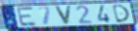2: (75, 5, 94, 25)
4: (97, 4, 112, 24)
7: (37, 6, 53, 26)
D: (112, 4, 131, 24)
E: (16, 6, 38, 27)
V: (53, 6, 72, 26)
